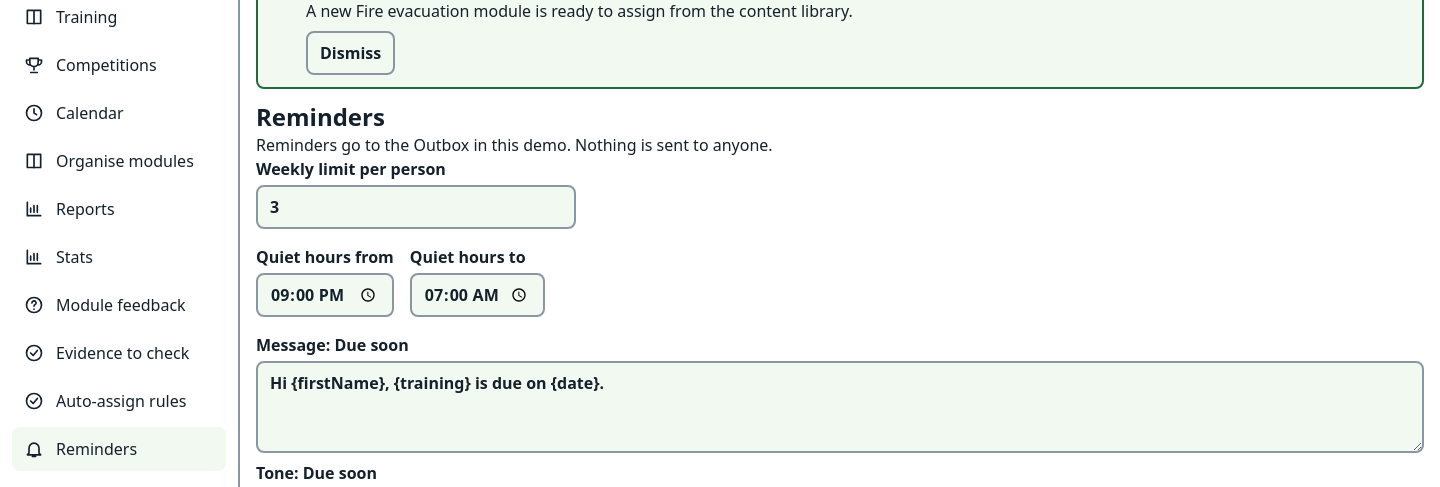
Test: C16 Reminders › saves a new weekly limit and quiet hours
Replace the text in the number field labelled "Weekly limit per person" with "2": [416, 207] box [256,185,576,229]
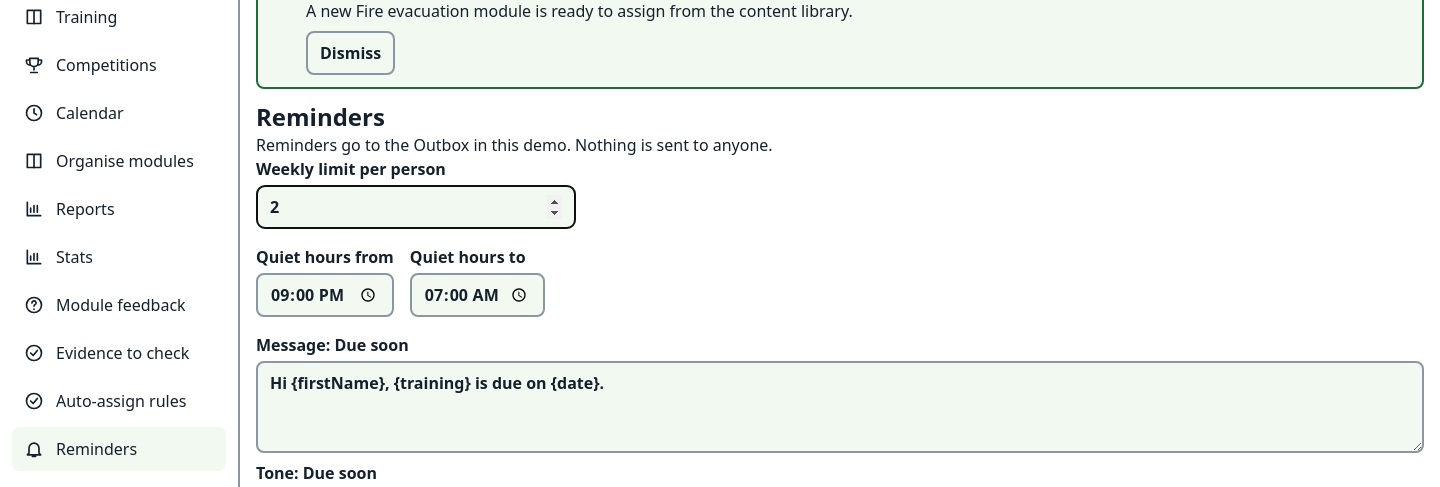
Replace the text in the time field labelled "Quiet hours from" with "20:00": [325, 295] box [256,273,394,317]
(page scrolled)
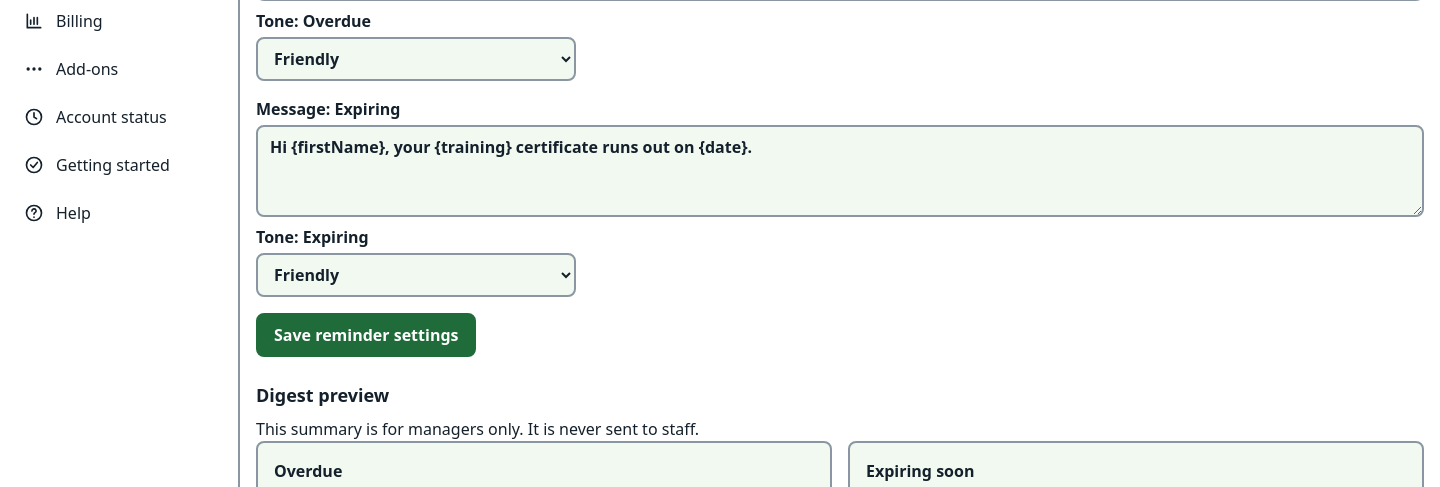
Click the button "Save reminder settings": [366, 335] box [256,313,476,357]
(page scrolled)
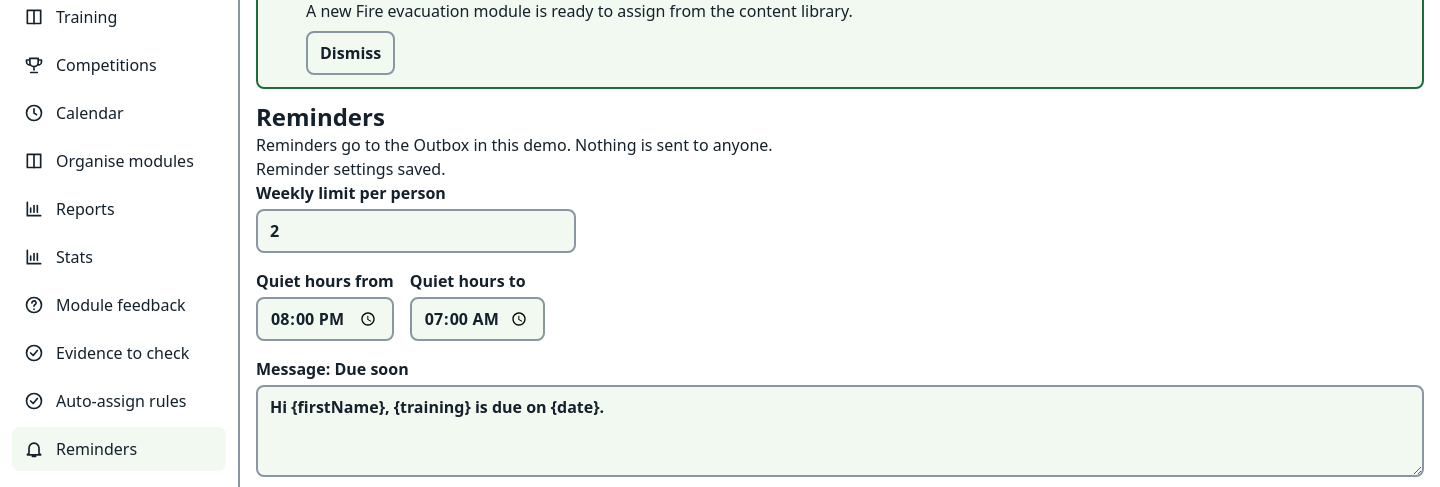
Result: the message reads "Reminder settings saved." at [256,158,445,180]
